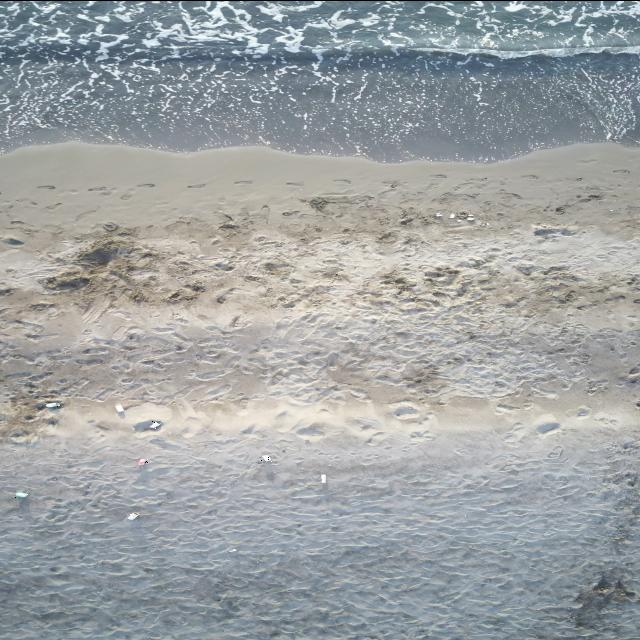Garbage: (133, 420, 161, 430), (537, 422, 560, 432), (35, 400, 62, 408), (103, 221, 118, 231), (44, 400, 62, 407), (259, 453, 271, 462), (115, 403, 123, 415), (148, 420, 160, 428), (16, 489, 27, 497), (456, 211, 467, 219), (128, 512, 139, 520), (136, 457, 148, 464), (320, 473, 326, 483), (227, 547, 236, 552), (448, 212, 455, 218), (467, 213, 473, 220), (228, 547, 236, 552), (435, 212, 442, 216)
